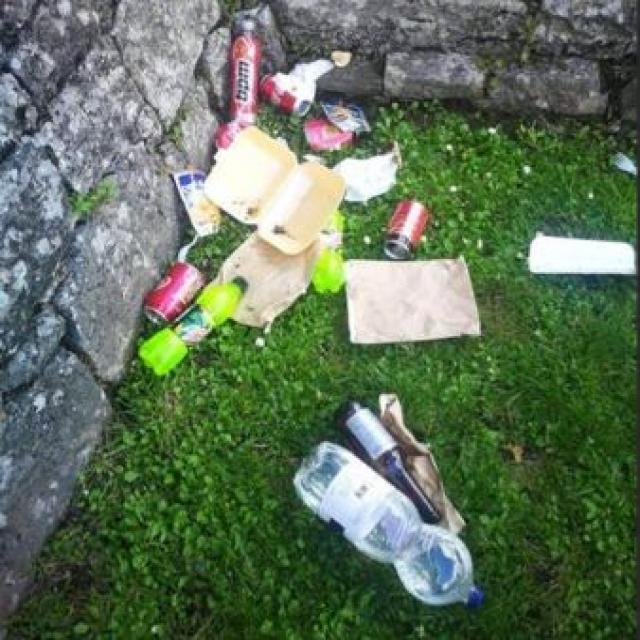metal: (142, 253, 214, 336), (383, 189, 433, 271)
paper: (208, 114, 346, 260), (337, 250, 492, 365), (521, 213, 640, 295), (328, 147, 405, 211)
plastic: (283, 430, 510, 620), (135, 273, 284, 383), (222, 13, 272, 135)
